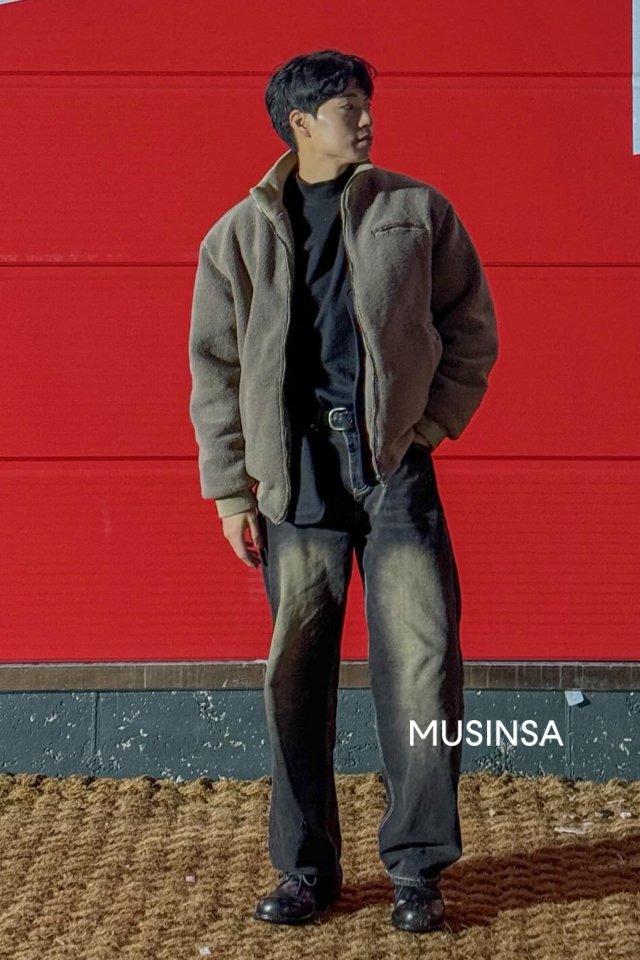Accessories: (283, 406, 371, 433)
Jeans: (262, 436, 467, 884)
Outer: (160, 158, 495, 500)
Shoes: (255, 872, 456, 939)
